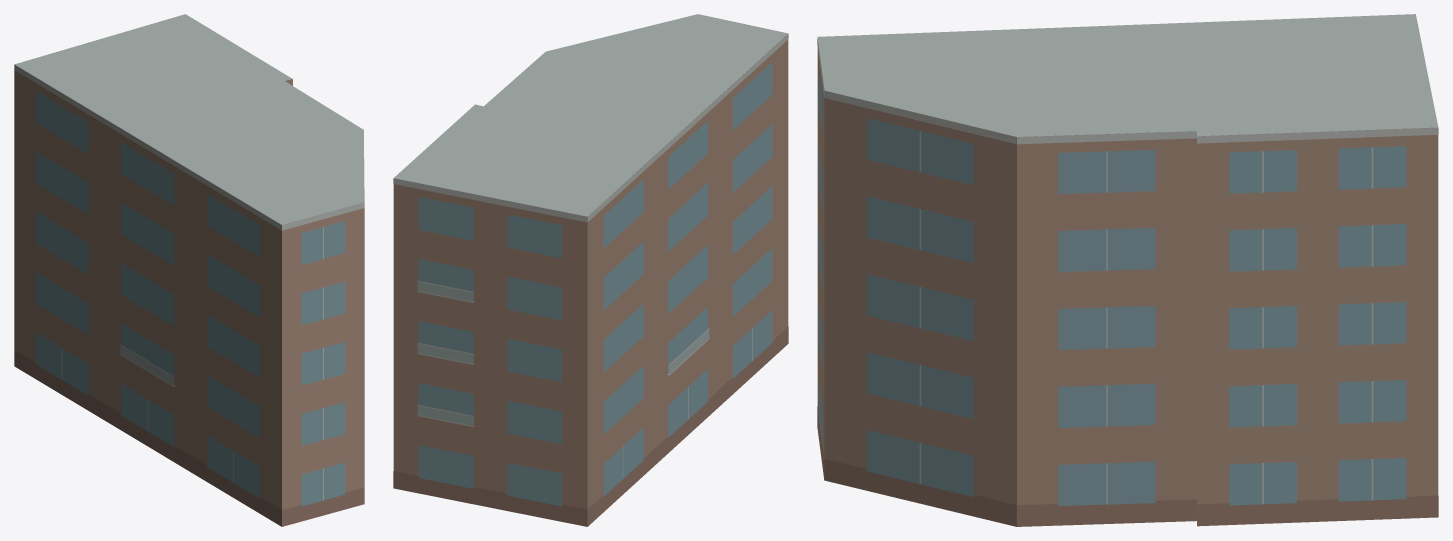
Rendered from survey-upis-32640640.glb.
3 renders of one model, left to right at view 1: azimuth 30°, elevation 25°; view 2: azimuth 150°, elevation 25°; view 3: azimuth 270°, elevation 25°, orthographic. The views are drawn at different scales.
Parts seen in each view (by area): view 1: survey-upis-32640640.tmp; view 2: survey-upis-32640640.tmp; view 3: survey-upis-32640640.tmp.
Boxes of the visible parts, x1,y1,x2,y2 form: survey-upis-32640640.tmp: [14, 14, 364, 526]; survey-upis-32640640.tmp: [393, 14, 788, 526]; survey-upis-32640640.tmp: [817, 14, 1438, 526].
Size of the model in its own units: 8.81 by 13 by 18.78.
